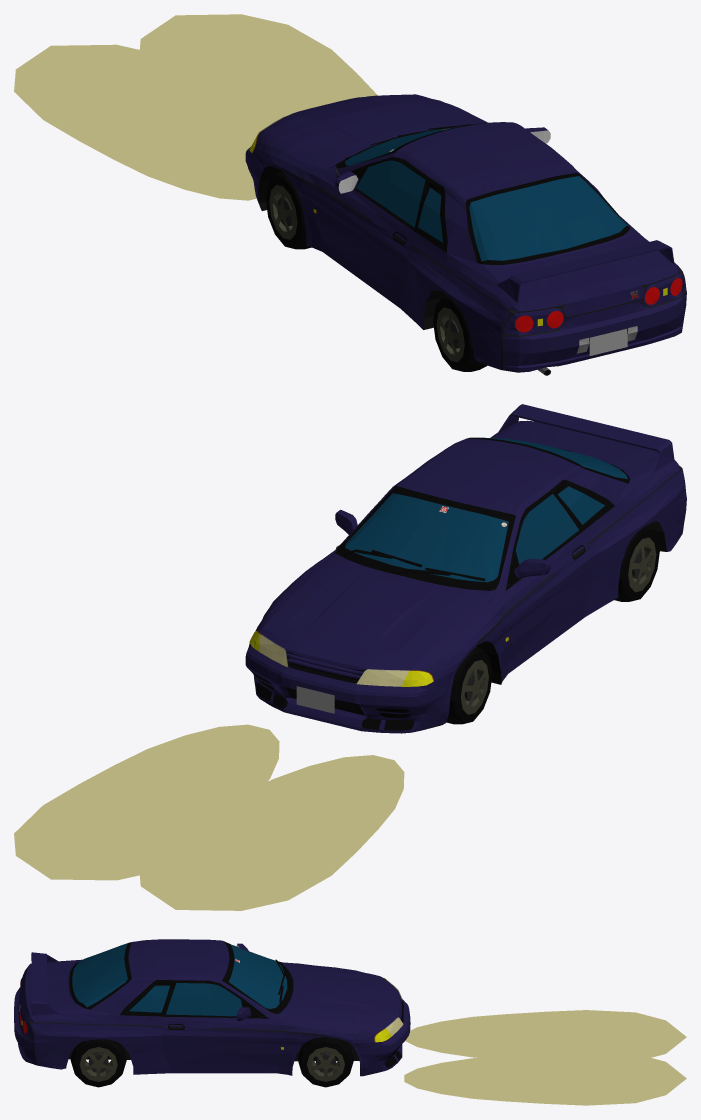
Rendered from gtr.obj.
The picture shows the model from 3 angles, top to bottom: view 1: azimuth 30°, elevation 25°; view 2: azimuth 150°, elevation 25°; view 3: azimuth 270°, elevation 25°; orthographic projection. The views are drawn at different scales.
Visible parts, largest first — view 1: ShapeIndexedFaceSet.044_ShapeIndexedFaceSet.045, ShapeIndexedFaceSet.059_ShapeIndexedFaceSet.060, ShapeIndexedFaceSet.051_ShapeIndexedFaceSet.052, ShapeIndexedFaceSet.049_ShapeIndexedFaceSet.050, ShapeIndexedFaceSet_ShapeIndexedFaceSet.001, ShapeIndexedFaceSet.040_ShapeIndexedFaceSet.041, ShapeIndexedFaceSet.031_ShapeIndexedFaceSet.032, ShapeIndexedFaceSet.048_ShapeIndexedFaceSet.049, ShapeIndexedFaceSet.046_ShapeIndexedFaceSet.047, ShapeIndexedFaceSet.041_ShapeIndexedFaceSet.042, ShapeIndexedFaceSet.032_ShapeIndexedFaceSet.033, ShapeIndexedFaceSet.058_ShapeIndexedFaceSet.059 (+1 smaller); view 2: ShapeIndexedFaceSet.044_ShapeIndexedFaceSet.045, ShapeIndexedFaceSet.059_ShapeIndexedFaceSet.060, ShapeIndexedFaceSet.051_ShapeIndexedFaceSet.052, ShapeIndexedFaceSet.049_ShapeIndexedFaceSet.050, ShapeIndexedFaceSet_ShapeIndexedFaceSet.001, ShapeIndexedFaceSet.031_ShapeIndexedFaceSet.032, ShapeIndexedFaceSet.040_ShapeIndexedFaceSet.041, ShapeIndexedFaceSet.032_ShapeIndexedFaceSet.033, ShapeIndexedFaceSet.041_ShapeIndexedFaceSet.042; view 3: ShapeIndexedFaceSet.044_ShapeIndexedFaceSet.045, ShapeIndexedFaceSet.059_ShapeIndexedFaceSet.060, ShapeIndexedFaceSet.051_ShapeIndexedFaceSet.052, ShapeIndexedFaceSet.049_ShapeIndexedFaceSet.050, ShapeIndexedFaceSet.034_ShapeIndexedFaceSet.035, ShapeIndexedFaceSet.037_ShapeIndexedFaceSet.038, ShapeIndexedFaceSet_ShapeIndexedFaceSet.001, ShapeIndexedFaceSet.038_ShapeIndexedFaceSet.039, ShapeIndexedFaceSet.035_ShapeIndexedFaceSet.036, ShapeIndexedFaceSet.048_ShapeIndexedFaceSet.049, ShapeIndexedFaceSet.045_ShapeIndexedFaceSet.046.
Part boxes in pixels (box(x1,y1,x2,y2)): ShapeIndexedFaceSet.044_ShapeIndexedFaceSet.045: box(245, 94, 686, 372); ShapeIndexedFaceSet.059_ShapeIndexedFaceSet.060: box(14, 14, 377, 200); ShapeIndexedFaceSet.051_ShapeIndexedFaceSet.052: box(345, 126, 627, 261); ShapeIndexedFaceSet.049_ShapeIndexedFaceSet.050: box(258, 122, 630, 264); ShapeIndexedFaceSet_ShapeIndexedFaceSet.001: box(497, 240, 674, 302); ShapeIndexedFaceSet.040_ShapeIndexedFaceSet.041: box(433, 295, 487, 371); ShapeIndexedFaceSet.031_ShapeIndexedFaceSet.032: box(265, 171, 311, 249); ShapeIndexedFaceSet.048_ShapeIndexedFaceSet.049: box(280, 167, 686, 370); ShapeIndexedFaceSet.046_ShapeIndexedFaceSet.047: box(576, 325, 637, 355); ShapeIndexedFaceSet.041_ShapeIndexedFaceSet.042: box(436, 307, 464, 362); ShapeIndexedFaceSet.032_ShapeIndexedFaceSet.033: box(269, 185, 297, 239); ShapeIndexedFaceSet.058_ShapeIndexedFaceSet.059: box(515, 278, 682, 332); ShapeIndexedFaceSet.044_ShapeIndexedFaceSet.045: box(245, 420, 686, 733); ShapeIndexedFaceSet.059_ShapeIndexedFaceSet.060: box(14, 635, 408, 910); ShapeIndexedFaceSet.051_ShapeIndexedFaceSet.052: box(345, 437, 627, 582); ShapeIndexedFaceSet.049_ShapeIndexedFaceSet.050: box(251, 437, 630, 730); ShapeIndexedFaceSet_ShapeIndexedFaceSet.001: box(497, 404, 674, 471); ShapeIndexedFaceSet.031_ShapeIndexedFaceSet.032: box(446, 646, 492, 724); ShapeIndexedFaceSet.040_ShapeIndexedFaceSet.041: box(614, 525, 659, 601); ShapeIndexedFaceSet.032_ShapeIndexedFaceSet.033: box(461, 660, 488, 714); ShapeIndexedFaceSet.041_ShapeIndexedFaceSet.042: box(628, 537, 656, 592); ShapeIndexedFaceSet.044_ShapeIndexedFaceSet.045: box(14, 939, 410, 1076); ShapeIndexedFaceSet.059_ShapeIndexedFaceSet.060: box(386, 979, 686, 1105); ShapeIndexedFaceSet.051_ShapeIndexedFaceSet.052: box(72, 943, 287, 1016); ShapeIndexedFaceSet.049_ShapeIndexedFaceSet.050: box(69, 941, 403, 1070); ShapeIndexedFaceSet.034_ShapeIndexedFaceSet.035: box(298, 1037, 353, 1087); ShapeIndexedFaceSet.037_ShapeIndexedFaceSet.038: box(70, 1039, 126, 1087); ShapeIndexedFaceSet_ShapeIndexedFaceSet.001: box(31, 952, 58, 1015); ShapeIndexedFaceSet.038_ShapeIndexedFaceSet.039: box(79, 1047, 117, 1081); ShapeIndexedFaceSet.035_ShapeIndexedFaceSet.036: box(307, 1047, 344, 1081); ShapeIndexedFaceSet.048_ShapeIndexedFaceSet.049: box(19, 1007, 325, 1065); ShapeIndexedFaceSet.045_ShapeIndexedFaceSet.046: box(68, 1026, 373, 1075).
Size of the model in its own units: 25.99 by 13.07 by 77.29.
